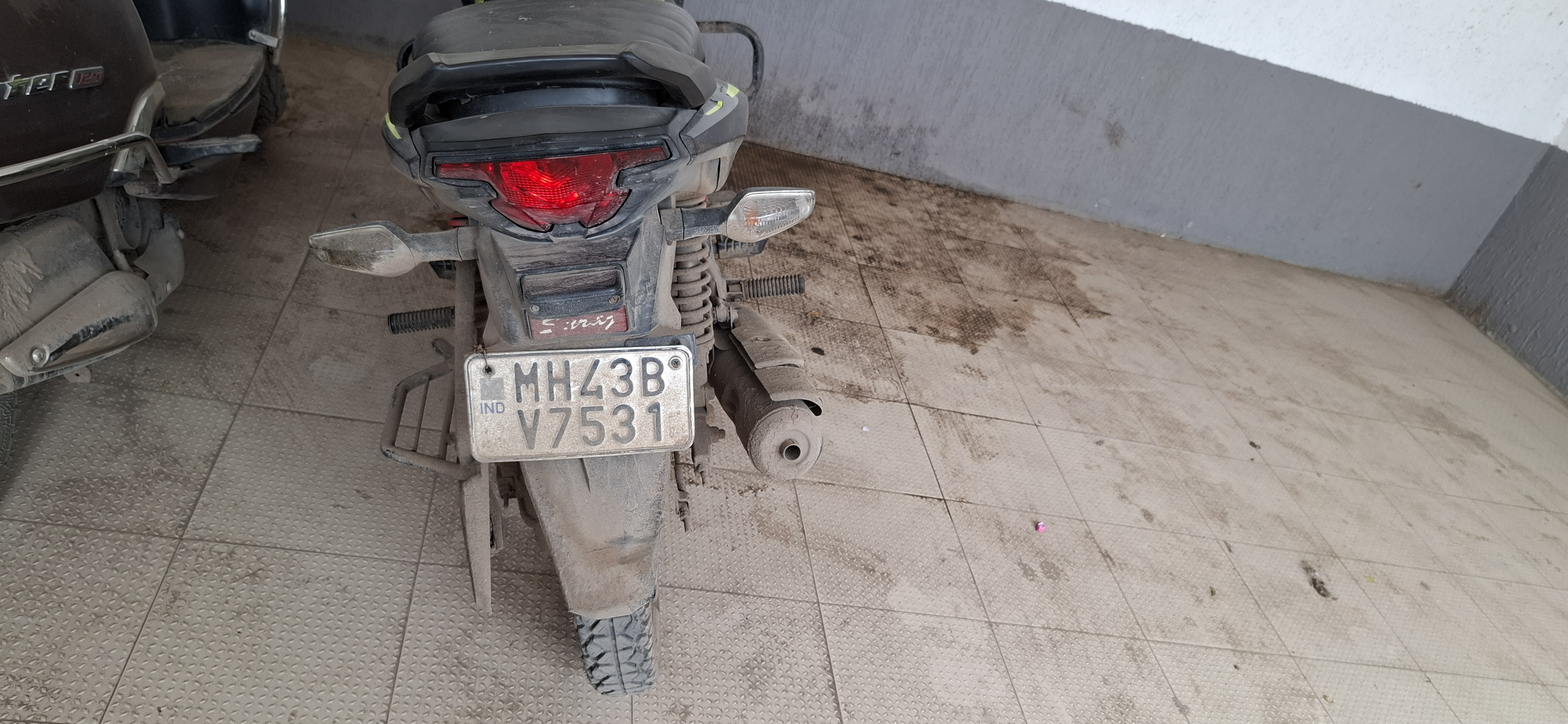license_plate: (380, 3, 805, 693)
